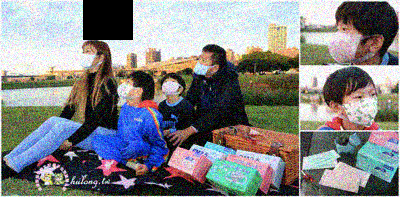with_mask: (345, 87, 379, 128), (327, 24, 361, 64), (116, 78, 134, 101), (79, 48, 97, 69), (193, 53, 209, 76), (161, 79, 179, 96)
